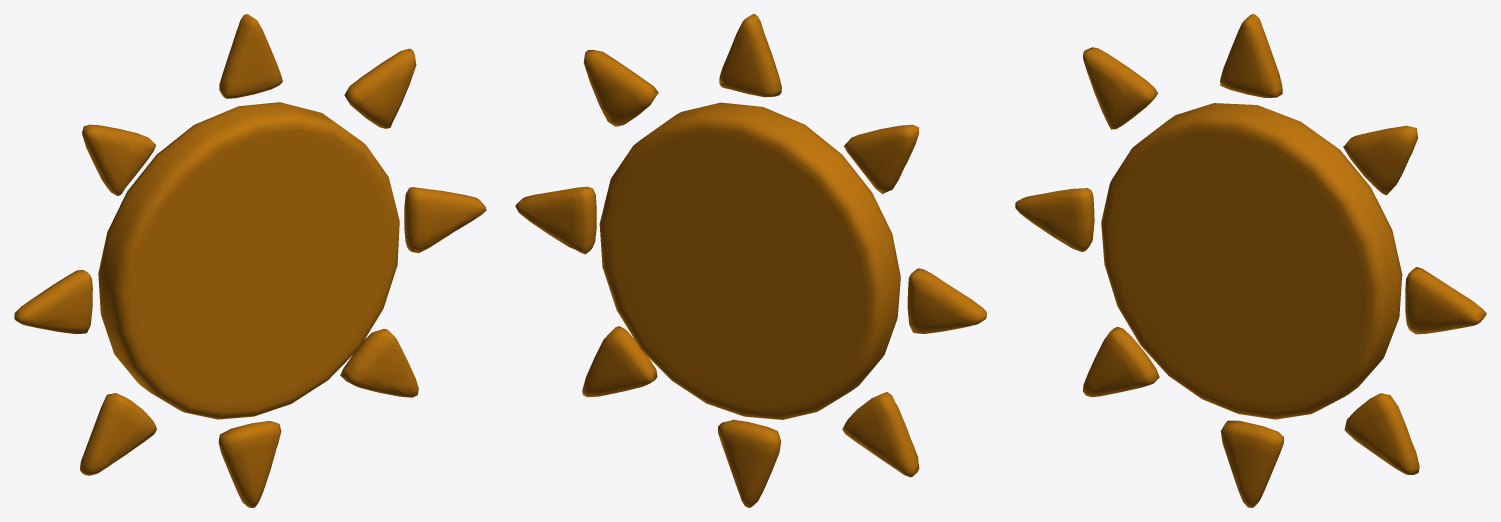
File: sun.FBX
3 views of the same model, side by side, from view 1: azimuth 30°, elevation 25°; view 2: azimuth 150°, elevation 25°; view 3: azimuth 330°, elevation 25° (orthographic).
Visible parts, largest first — view 1: Group11584, ZBrush_defualt_group, Group5, Group6, Group7, Group2, Group4, Group3, Group1; view 2: Group11584, ZBrush_defualt_group, Group6, Group5, Group4, Group2, Group7, Group3, Group1; view 3: Group11584, ZBrush_defualt_group, Group6, Group7, Group1, Group4, Group2, Group5, Group3.
Boxes of the visible parts, x1,y1,x2,y2 form: Group11584: [98, 102, 399, 419]; ZBrush_defualt_group: [404, 187, 486, 252]; Group5: [80, 393, 156, 475]; Group6: [218, 421, 281, 507]; Group7: [340, 329, 418, 397]; Group2: [219, 14, 282, 98]; Group4: [14, 270, 92, 334]; Group3: [344, 48, 416, 128]; Group1: [82, 124, 155, 195]; Group11584: [599, 102, 900, 419]; ZBrush_defualt_group: [515, 186, 596, 254]; Group6: [718, 419, 781, 507]; Group5: [842, 392, 919, 477]; Group4: [907, 268, 986, 333]; Group2: [719, 14, 781, 97]; Group7: [582, 326, 657, 397]; Group3: [583, 49, 658, 126]; Group1: [844, 124, 918, 193]; Group11584: [1101, 103, 1402, 419]; ZBrush_defualt_group: [1405, 267, 1486, 334]; Group6: [1220, 420, 1283, 507]; Group7: [1344, 393, 1419, 474]; Group1: [1083, 47, 1158, 129]; Group4: [1015, 188, 1094, 251]; Group2: [1220, 14, 1282, 97]; Group5: [1082, 327, 1159, 397]; Group3: [1343, 125, 1417, 195].
Size of the model in its own units: 40.97 by 41.08 by 3.78.
